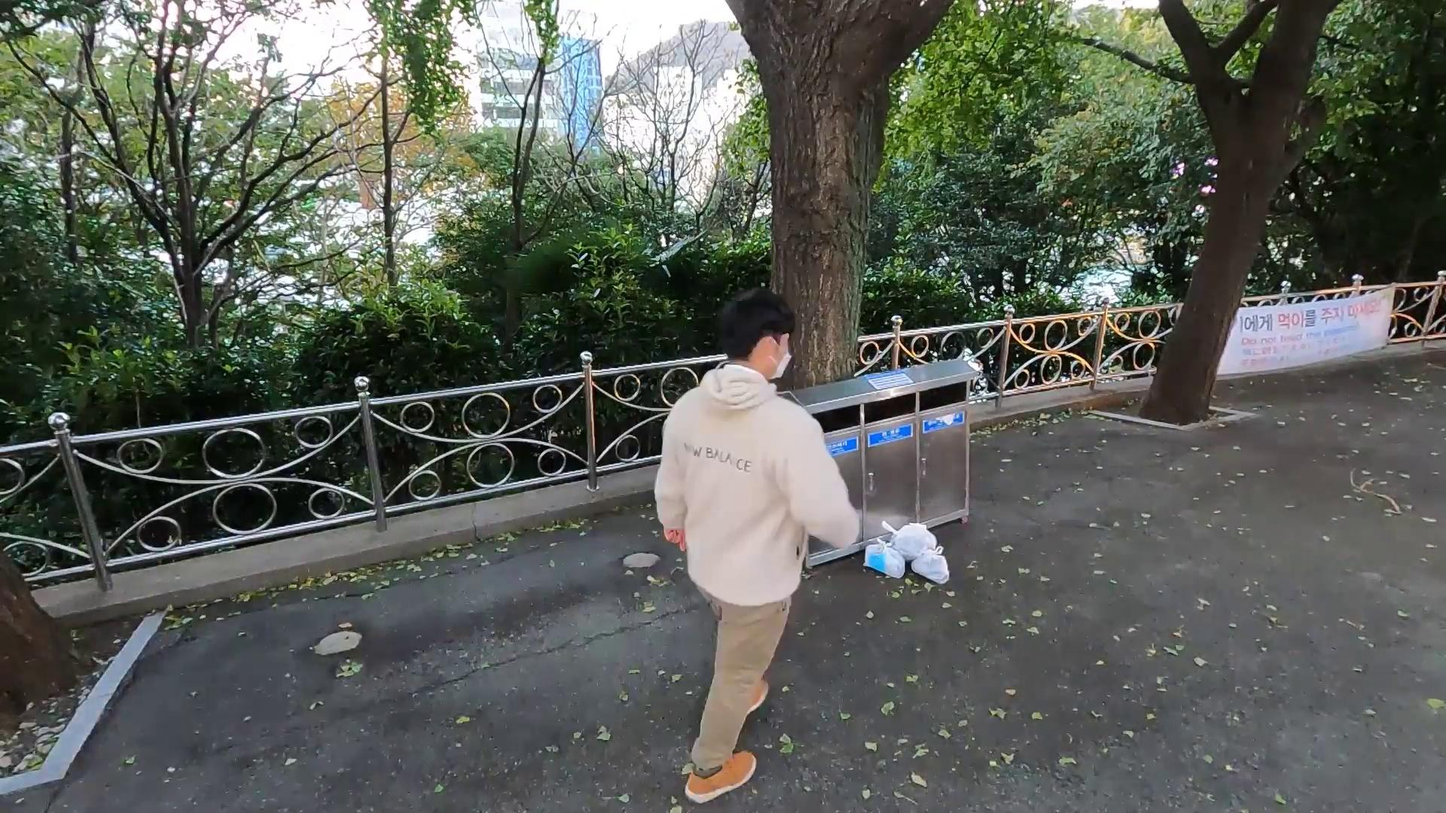person: (649, 280, 865, 805)
trash: (878, 519, 937, 562), (864, 536, 907, 580), (910, 545, 952, 586)
